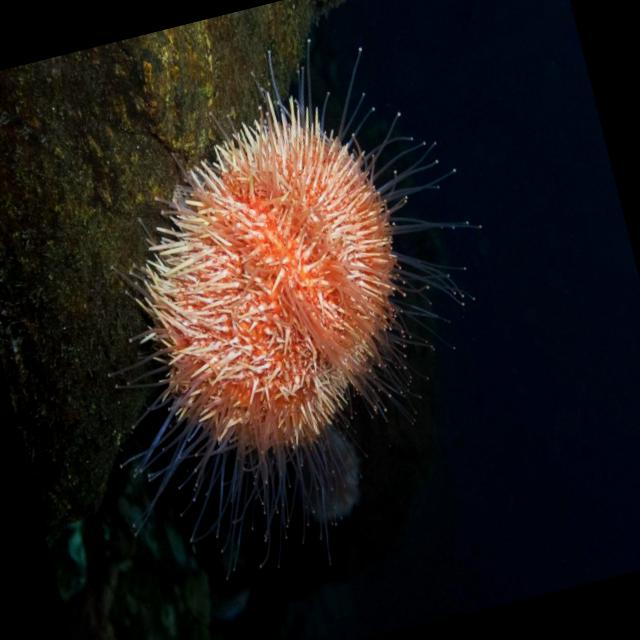Deniz Kestanesi: (27, 6, 554, 616)
